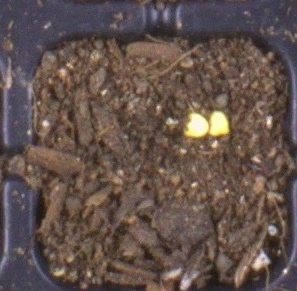chilli seed: (183, 111, 209, 137), (209, 110, 230, 136)
